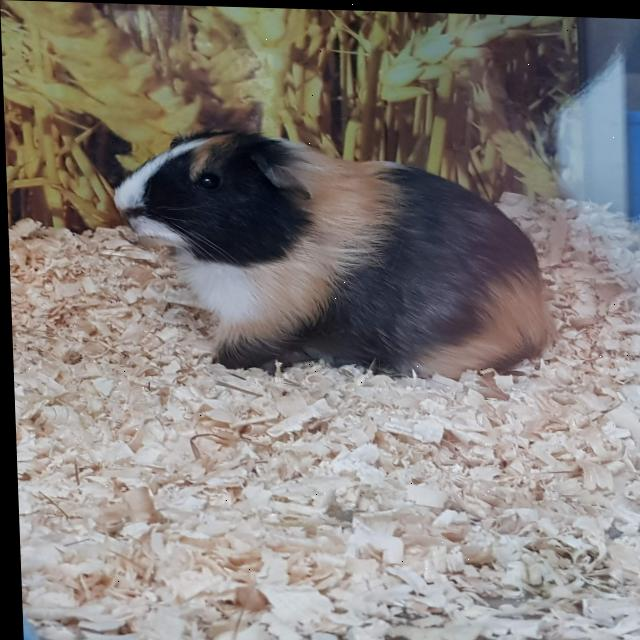guinea pig: (103, 122, 551, 377)
